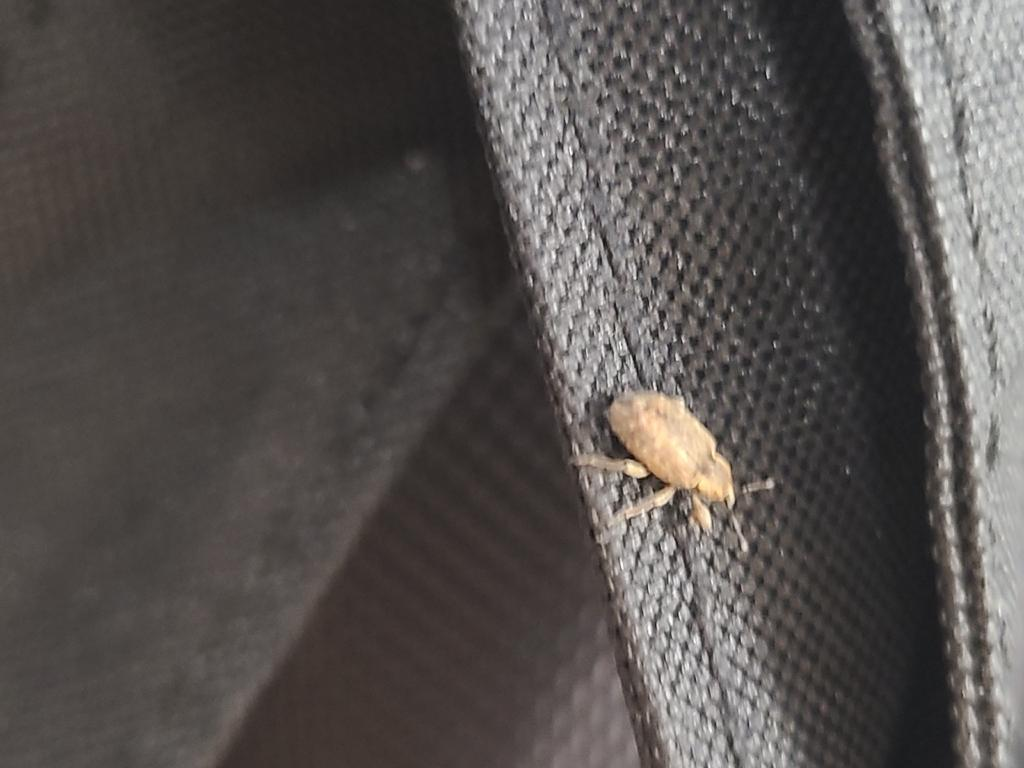weevils: (544, 364, 793, 579)
